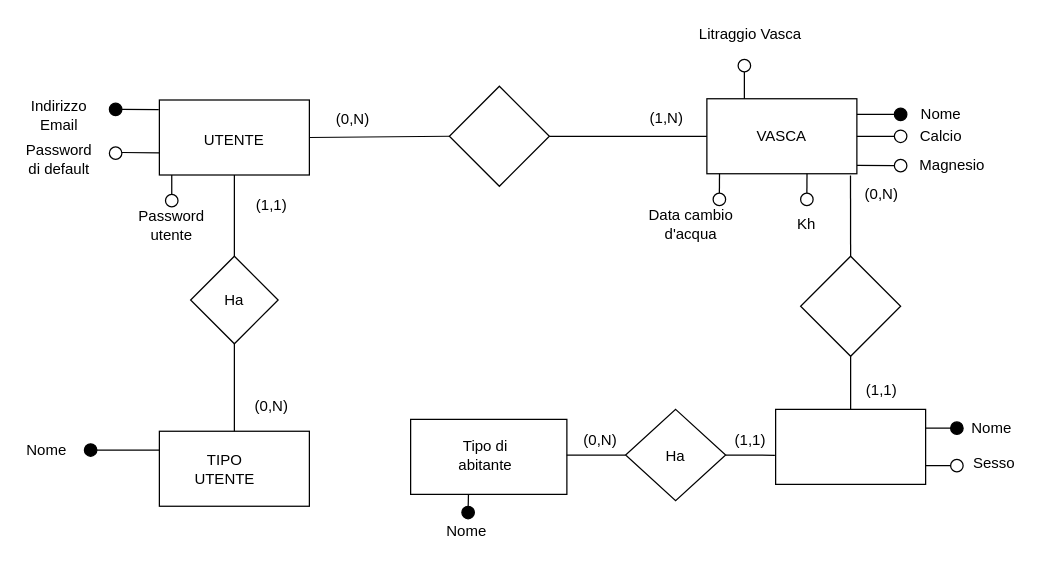
The diagram is 1040 pixels wide and 565 high, and some of its shapes have lost their labels. The centre of each missing label's shape, as x and y in pixels:
ABITANTE: the point at 850,446
Contiene: the point at 850,305
Gestisce: the point at 498,135
